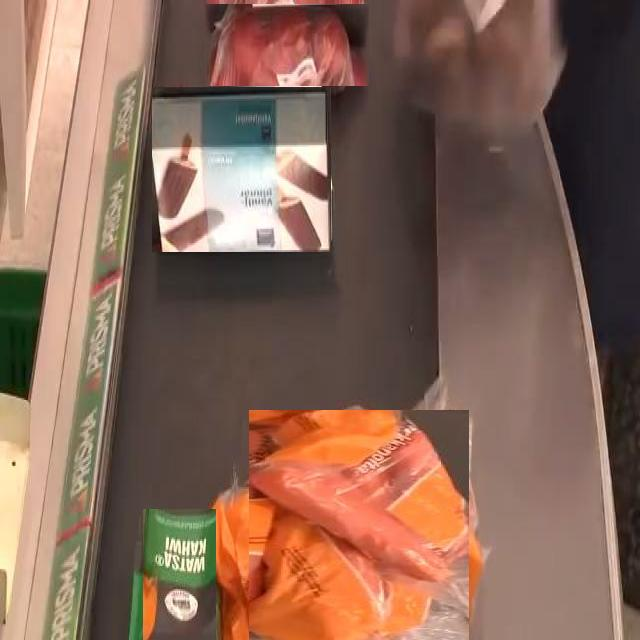food-box: (152, 86, 332, 252), (142, 508, 216, 640)
vegetable: (243, 414, 473, 640), (204, 3, 369, 86)
